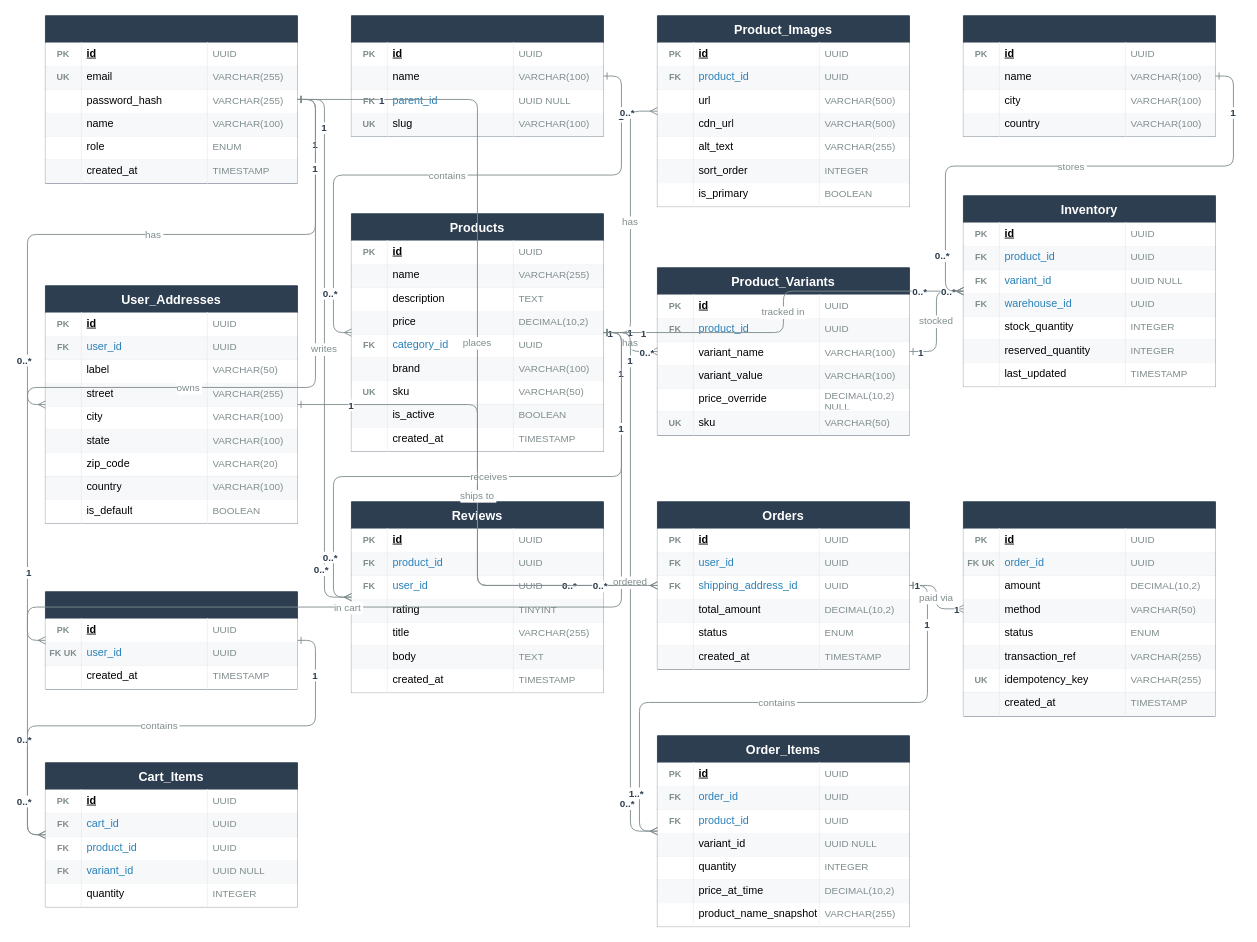
The diagram is 1257 pixels wide and 942 high, and some of its shapes have lost their labels. Each missing label, with the box of its shape:
Carts: (45, 591, 297, 689)
Categories: (351, 15, 603, 136)
Payments: (963, 501, 1215, 716)
Users: (45, 15, 297, 183)
Warehouses: (963, 15, 1215, 136)
